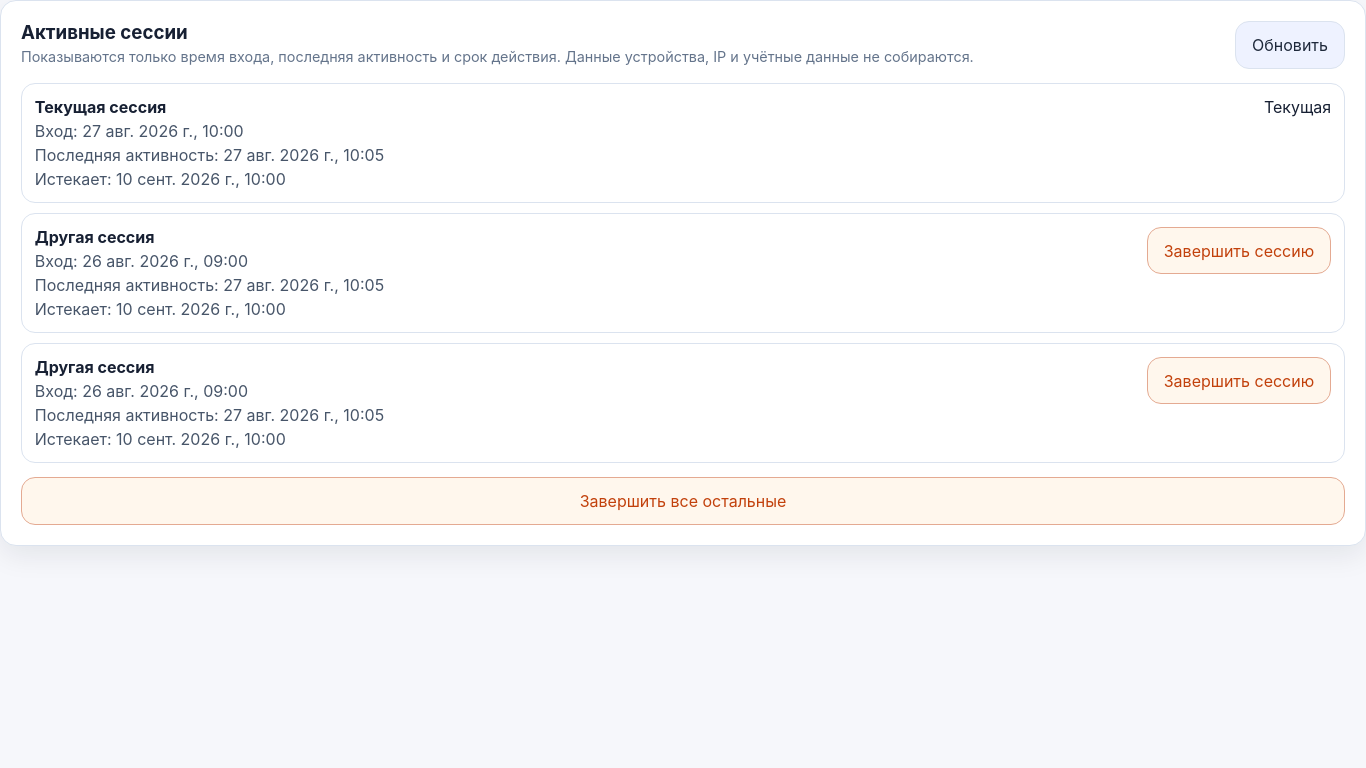
Test: AccountSessionsPanel › revokes all other sessions and preserves the current session
Click the button "Завершить все остальные" at (683, 501), box [21,477,1345,524]
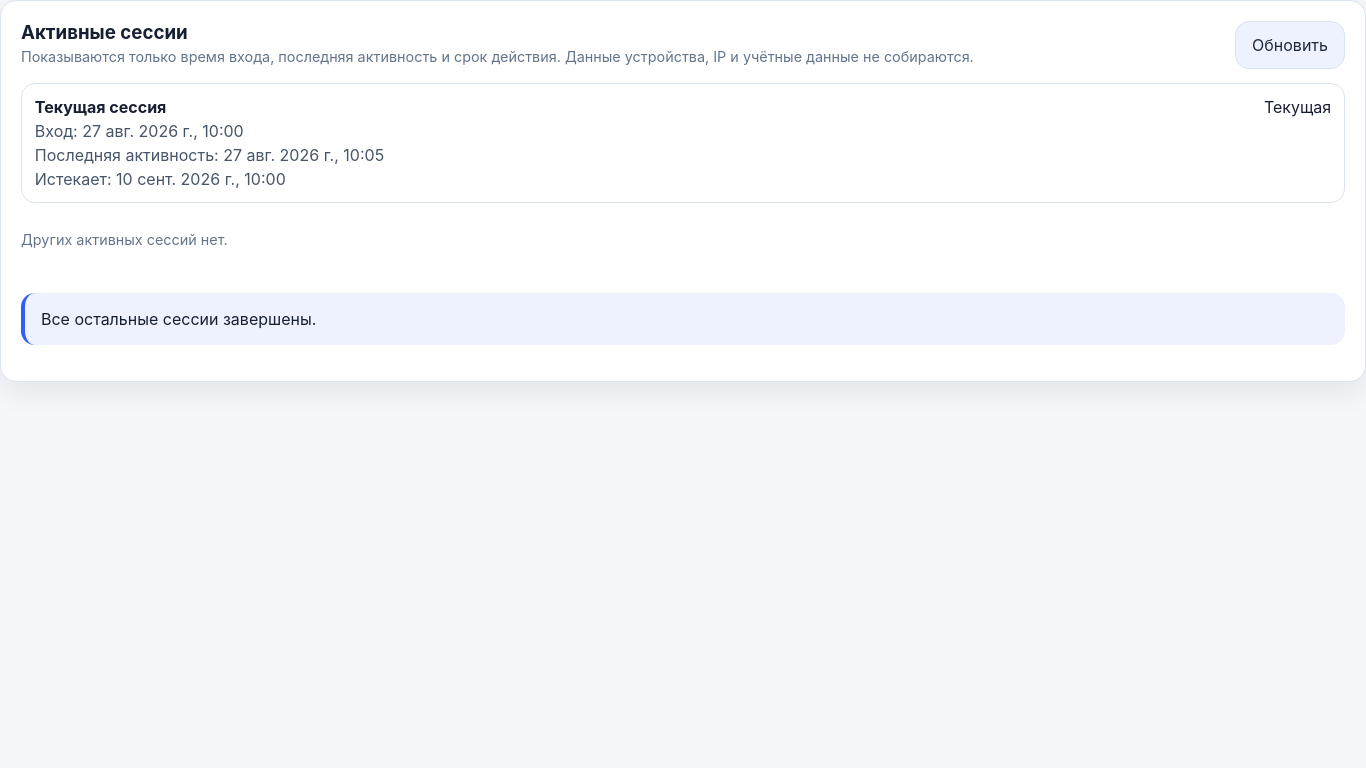
Expected: the text "Текущая сессия" is shown, [35,97,166,117]
Result: the text "Все остальные сессии завершены." is shown at [21,293,1345,345]
Result: the text "Других активных сессий нет." is shown at [21,231,228,248]
